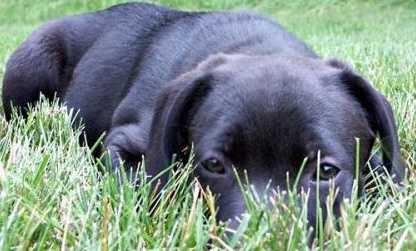Dog: (106, 53, 404, 226)
